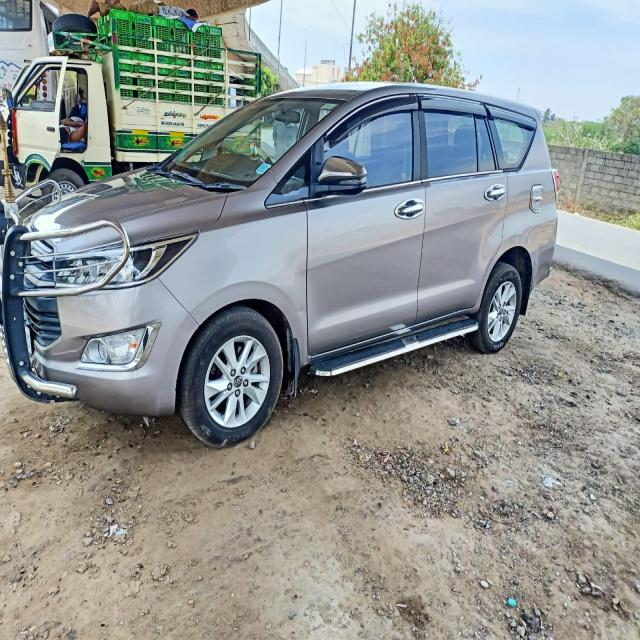light_vehicle: (0, 82, 560, 450)
